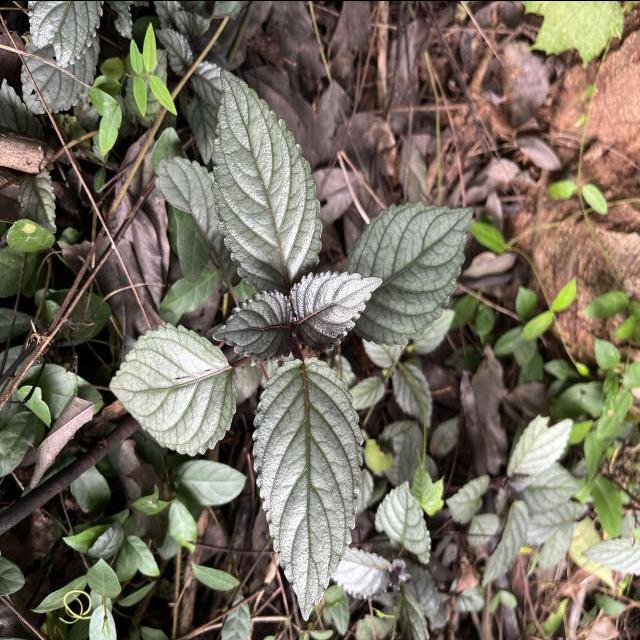Hemigraphis colorata: (250, 352, 368, 626), (209, 63, 325, 292), (342, 196, 480, 350), (106, 320, 240, 458), (288, 266, 386, 354), (211, 287, 296, 369)
